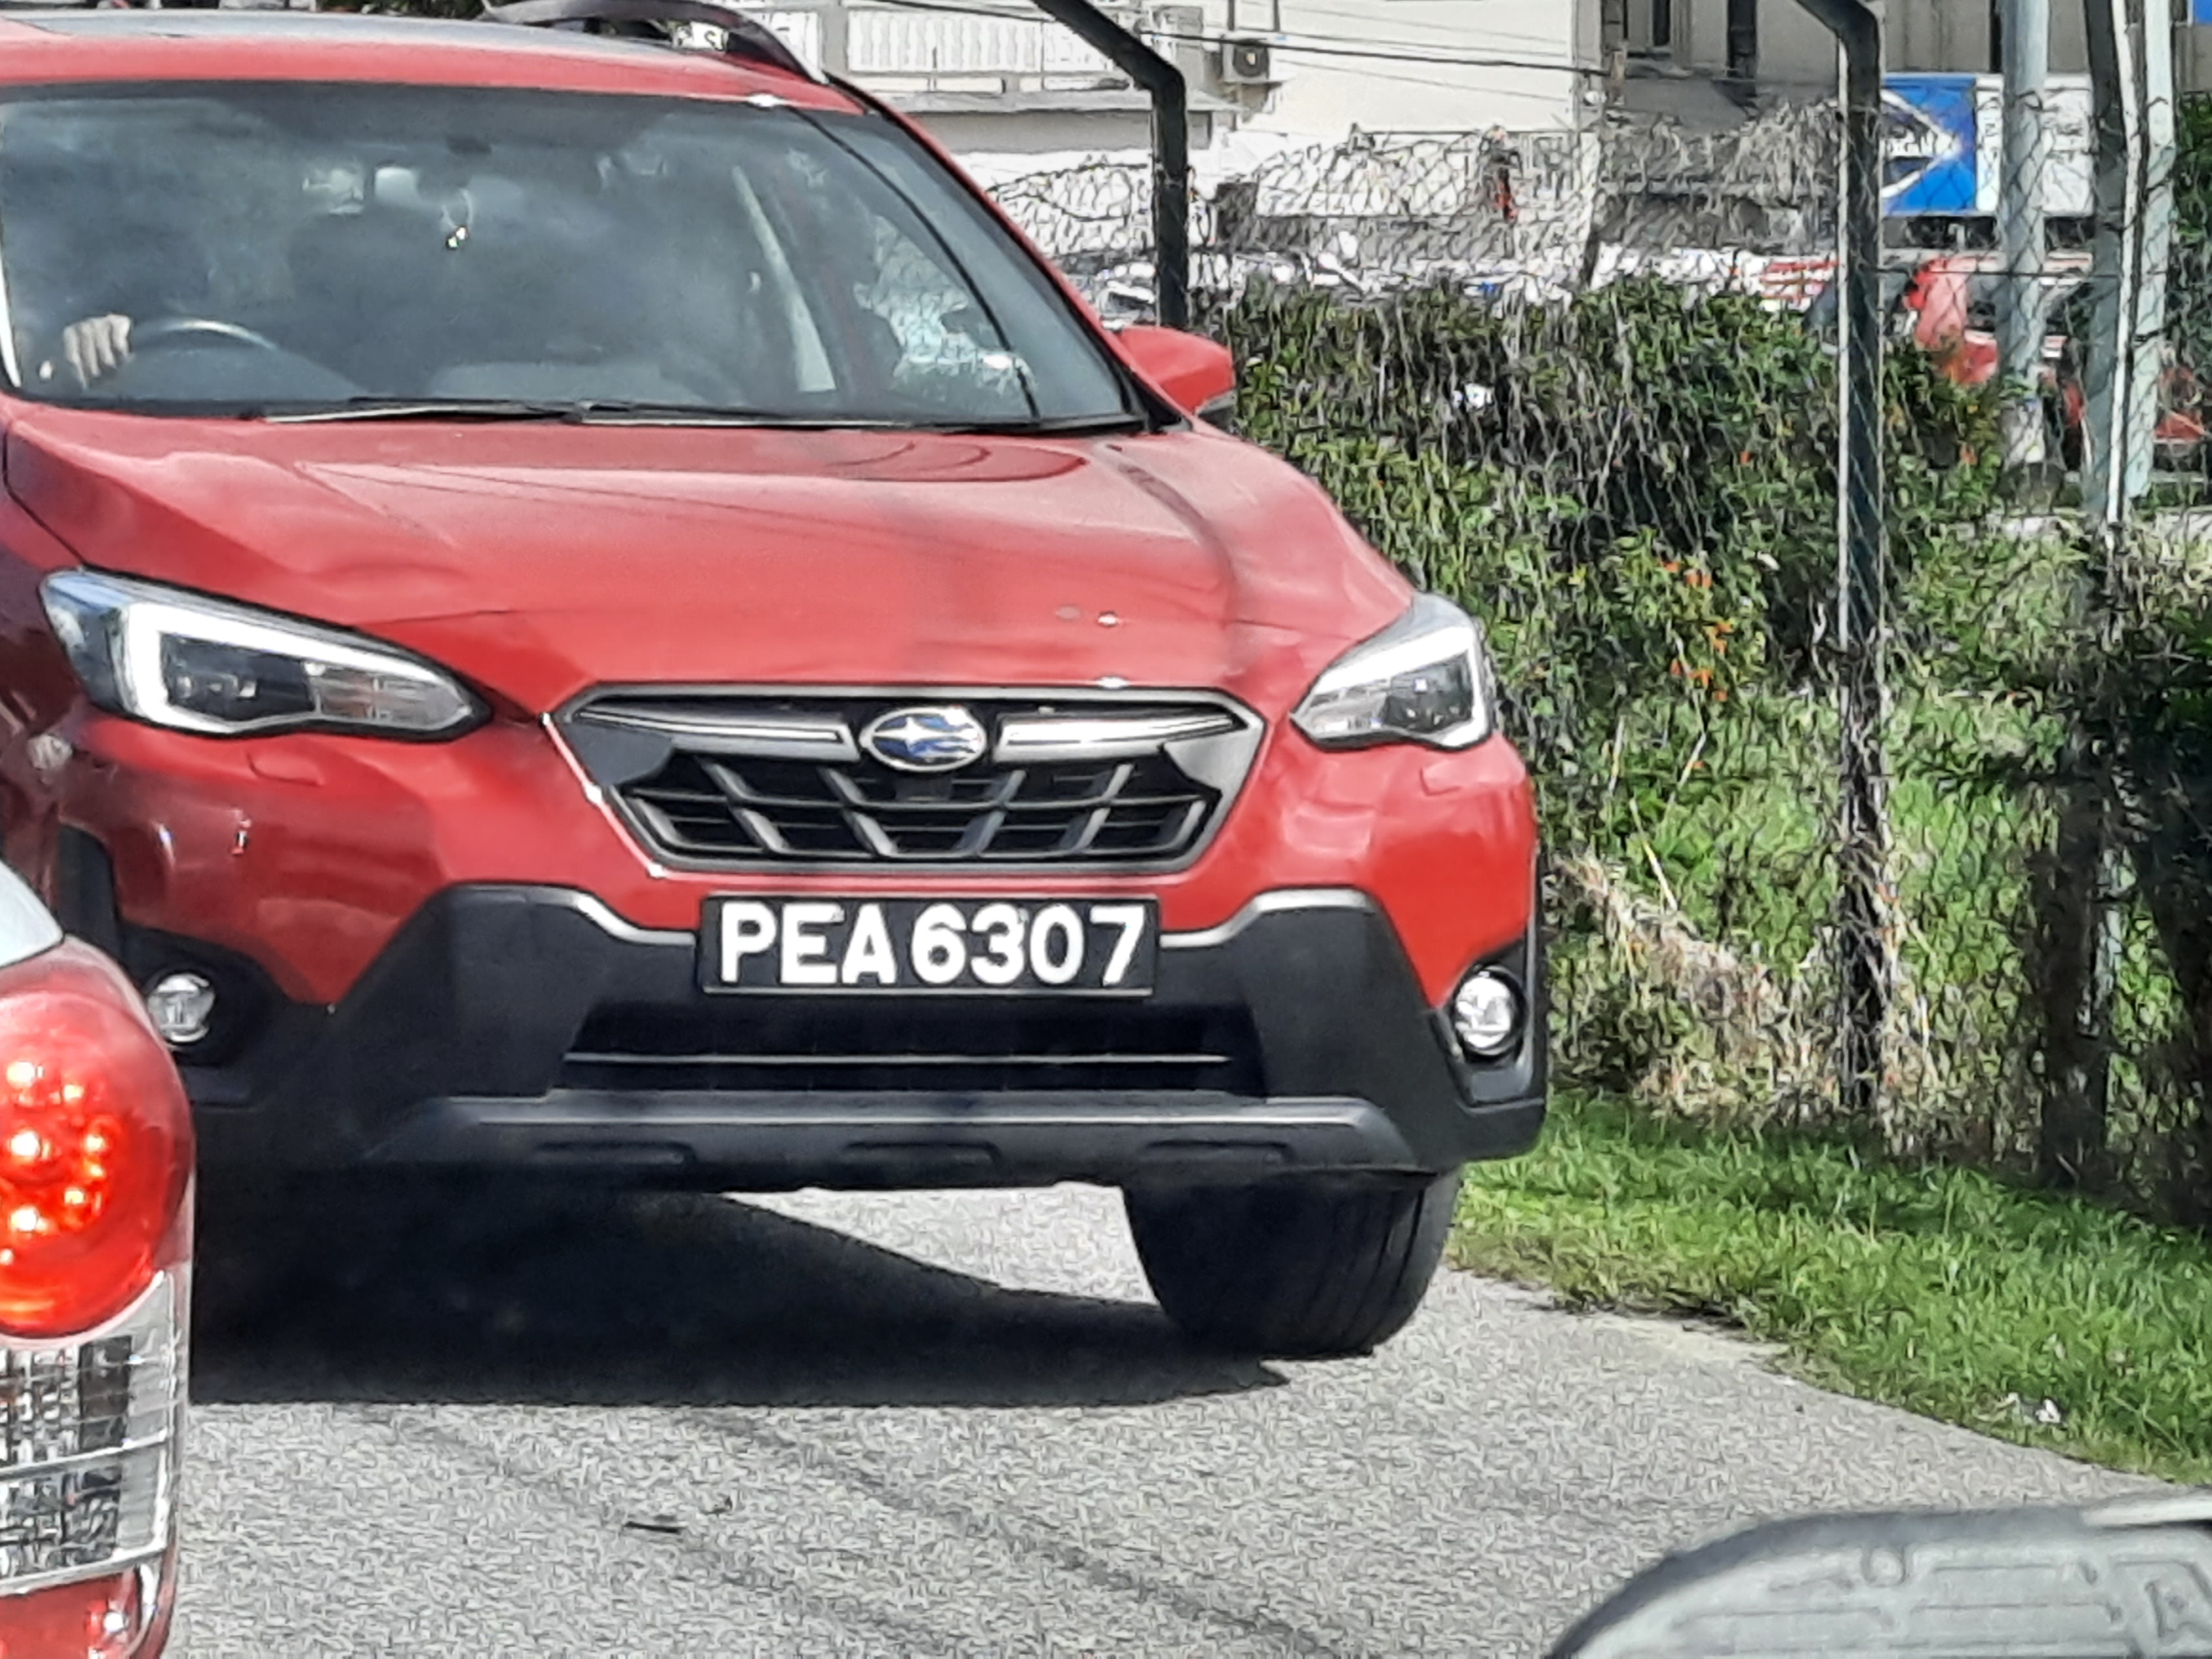License-Plate: (701, 894, 1159, 992)
